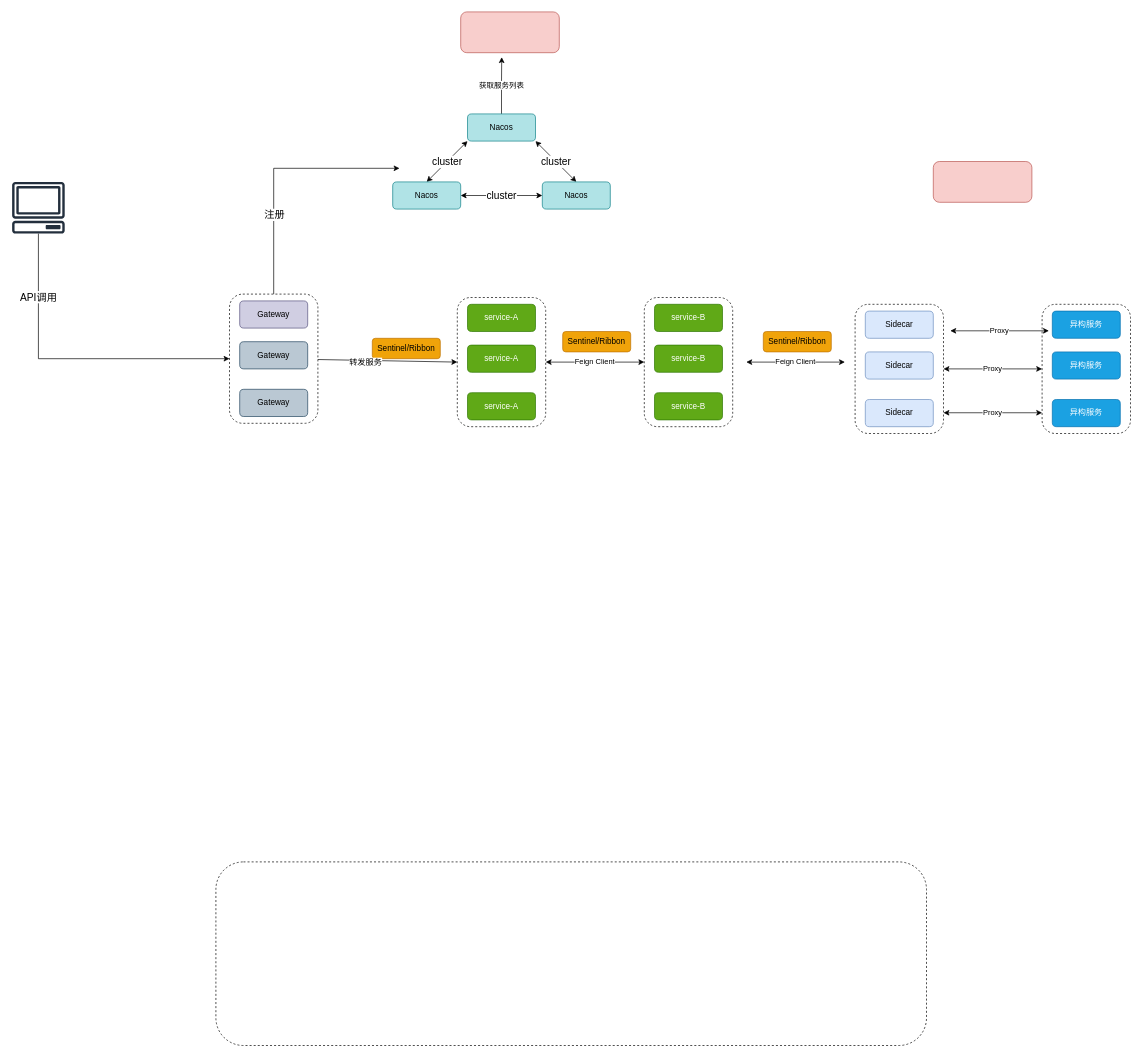
Some shapes in this 1142 by 1057 pixel diagram are drawn without their labels. Here are the shapes that lost their labels. From the top down, the box of each, then its label:
(460, 11, 559, 53): SpringBoot Admin
(933, 161, 1032, 202): quartz分布式任务
